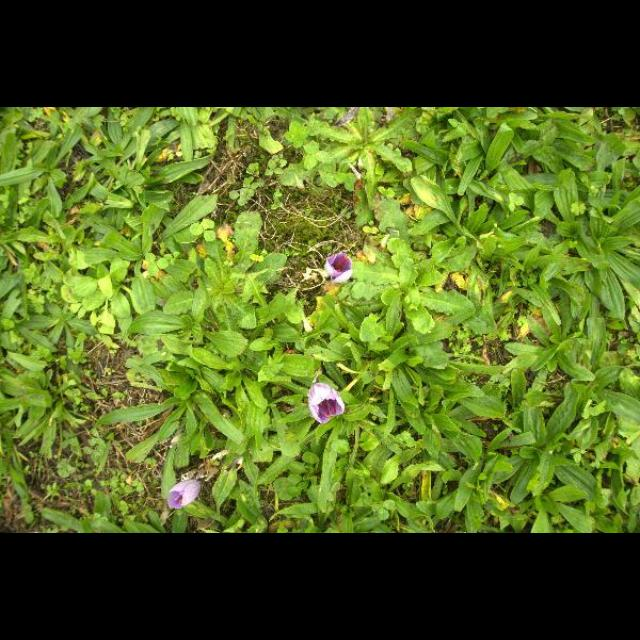flower: (307, 382, 345, 426), (168, 478, 202, 510), (324, 252, 354, 284)
